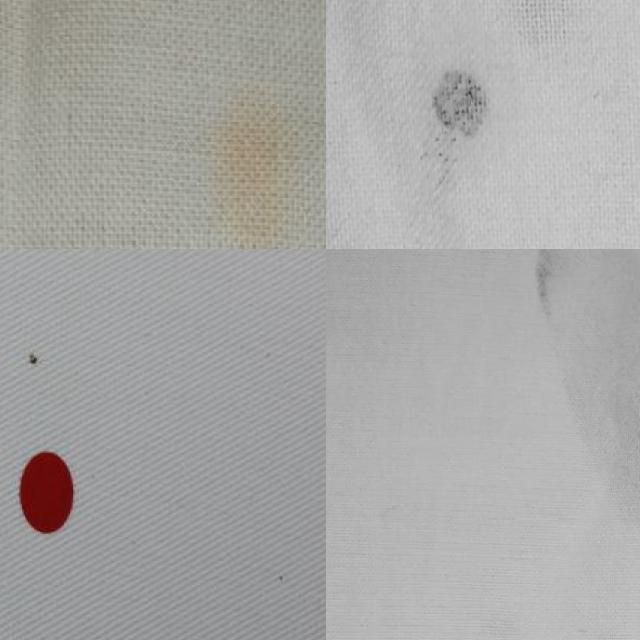Hole: (376, 19, 542, 200), (0, 330, 67, 387)
